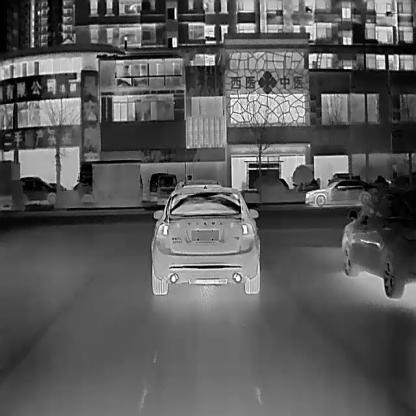car: (150, 179, 260, 293), (342, 190, 416, 298), (305, 178, 378, 206), (13, 176, 57, 206), (156, 173, 177, 204), (148, 172, 165, 192)
